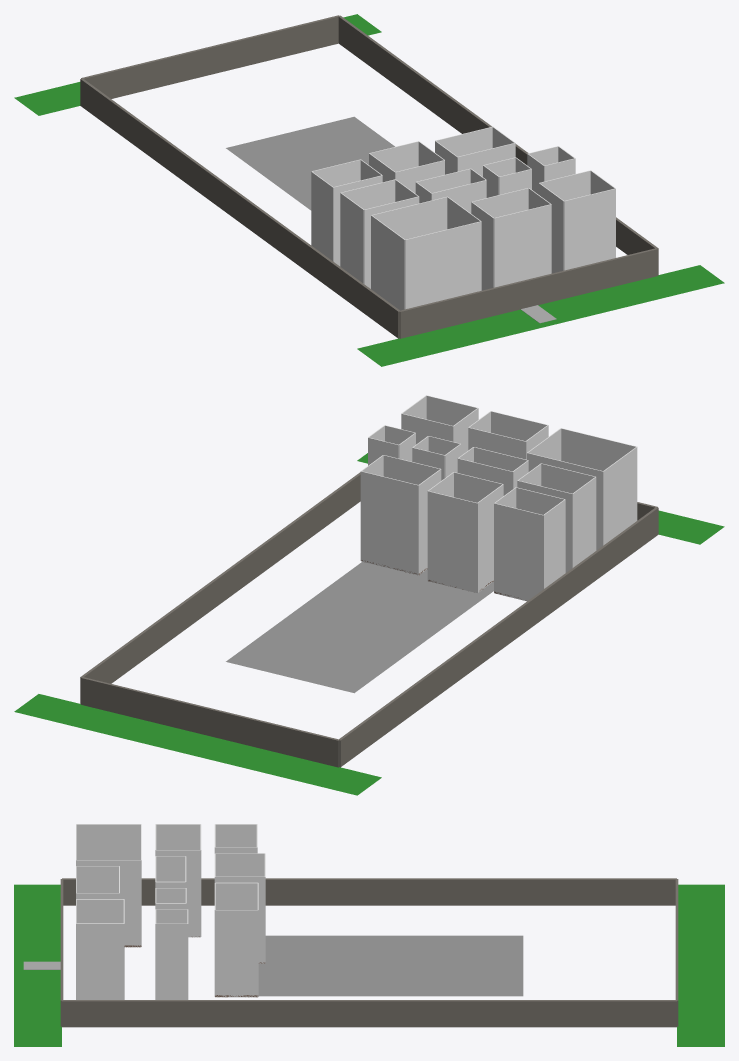
The model's file is enhanced_boq_cb484228-2d1b-479c-90f0-a70dc85fef88.obj.
The picture shows the model from 3 angles, top to bottom: view 1: azimuth 30°, elevation 25°; view 2: azimuth 150°, elevation 25°; view 3: azimuth 270°, elevation 25°; orthographic projection. The views are drawn at different scales.
Visible parts, largest first — view 1: ExteriorWall_West, FrontYard, ExteriorWall_South, ExteriorWall_North, Foundation, SouthWall_Living_Room_1, ExteriorWall_East, SouthWall_Bedroom_1, SouthWall_Bedroom_2, WestWall_Living_Room_1, NorthWall_Living_Room_1, WestWall_Bedroom_3 (+18 smaller); view 2: Foundation, ExteriorWall_West, BackYard, ExteriorWall_East, ExteriorWall_North, NorthWall_Store_Room_1, NorthWall_Utility_Room_1, NorthWall_Dining_Room_1, WestWall_Living_Room_1, SouthWall_Living_Room_1, WestWall_Bedroom_3, WestWall_Dining_Room_1 (+15 smaller); view 3: ExteriorWall_East, Foundation, ExteriorWall_West, BackYard, FrontYard, EastWall_Store_Room_1, EastWall_Bedroom_2, EastWall_Bathroom_2, WestWall_Living_Room_1, EastWall_Living_Room_1, EastWall_Bedroom_3, WestWall_Store_Room_1 (+11 smaller).
Part boxes in pixels (left/top/right/bottom): ExteriorWall_West: left=80, top=78, right=399, bottom=338; FrontYard: left=357, top=265, right=724, bottom=366; ExteriorWall_South: left=399, top=248, right=657, bottom=338; ExteriorWall_North: left=81, top=15, right=339, bottom=98; Foundation: left=226, top=116, right=394, bottom=210; SouthWall_Living_Room_1: left=405, top=221, right=481, bottom=309; ExteriorWall_East: left=338, top=15, right=658, bottom=275; SouthWall_Bedroom_1: left=494, top=204, right=551, bottom=287; SouthWall_Bedroom_2: left=564, top=188, right=615, bottom=270; WestWall_Living_Room_1: left=371, top=215, right=404, bottom=310; NorthWall_Living_Room_1: left=371, top=196, right=447, bottom=239; WestWall_Bedroom_3: left=340, top=193, right=363, bottom=283; Foundation: left=226, top=561, right=493, bottom=693; ExteriorWall_West: left=339, top=507, right=658, bottom=767; BackYard: left=14, top=694, right=381, bottom=795; ExteriorWall_East: left=80, top=472, right=360, bottom=703; ExteriorWall_North: left=81, top=677, right=339, bottom=767; NorthWall_Store_Room_1: left=361, top=471, right=418, bottom=575; NorthWall_Utility_Room_1: left=427, top=491, right=477, bottom=592; NorthWall_Dining_Room_1: left=494, top=503, right=543, bottom=601; WestWall_Living_Room_1: left=603, top=447, right=637, bottom=545; SouthWall_Living_Room_1: left=561, top=428, right=636, bottom=470; WestWall_Bedroom_3: left=572, top=477, right=596, bottom=567; WestWall_Dining_Room_1: left=543, top=499, right=565, bottom=589; ExteriorWall_East: left=62, top=1000, right=676, bottom=1027; Foundation: left=258, top=935, right=523, bottom=996; ExteriorWall_West: left=62, top=878, right=676, bottom=905; BackYard: left=677, top=884, right=724, bottom=1046; FrontYard: left=14, top=884, right=61, bottom=1046; EastWall_Store_Room_1: left=215, top=910, right=258, bottom=997; EastWall_Bedroom_2: left=76, top=923, right=124, bottom=999; EastWall_Bathroom_2: left=155, top=923, right=187, bottom=999; WestWall_Living_Room_1: left=76, top=824, right=141, bottom=859; EastWall_Living_Room_1: left=76, top=860, right=141, bottom=947; EastWall_Bedroom_3: left=155, top=850, right=200, bottom=937; WestWall_Store_Room_1: left=215, top=882, right=257, bottom=909.
Bounding box in the file's own units: 40 × 10 × 74.16.
